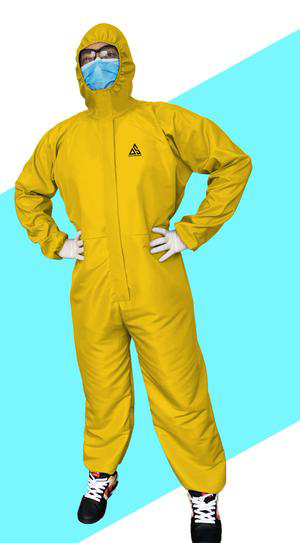Coverall: (15, 24, 254, 479)
with_mask: (77, 60, 121, 92)
